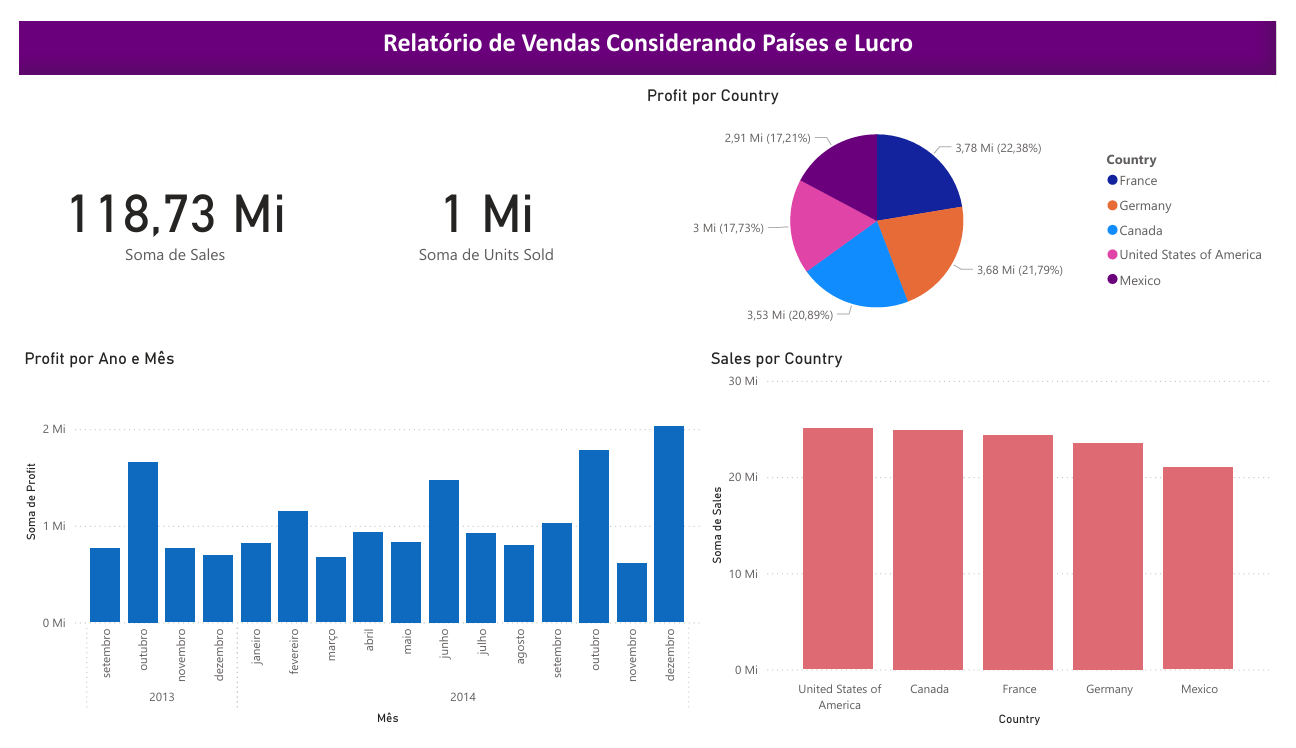

What the dashboard file says about the page in this screenshot:
{"tool":"powerbi","page":{"name":"Página 2","canvas":[1280,720],"ordinal":1},"visuals":[{"type":"card","fields":{"Values":["Sum(financials.Sales)"]},"box":[0,64.8,316.9,267.3],"z":0},{"type":"pieChart","title":"Profit por Country","fields":{"Category":["financials.Country"],"Y":["Sum(financials.Profit)"]},"box":[633.8,64.8,646.2,257.7],"z":1000},{"type":"clusteredColumnChart","title":"Profit por Ano e Mês","fields":{"Y":["Sum(financials.Profit)"],"Category":["financials.Date.Variation.Hierarquia de datas.Ano","financials.Date.Variation.Hierarquia de datas.Mês"]},"box":[0,332.6,698.4,387.4],"z":2000},{"type":"clusteredColumnChart","title":" Sales por Country","fields":{"Y":["Sum(financials.Sales)"],"Category":["financials.Country"]},"box":[698.6,333.4,581.4,387.2],"z":3000},{"type":"textbox","box":[0,0,1280,53.7],"z":4000},{"type":"card","fields":{"Values":["Sum(financials.Units Sold)"]},"box":[316.9,64.8,316.9,267.3],"z":5000}]}

Visuals, with their boxes in screenshot pixels (x1, y1, x2, y2), scaled from the page's 1280x720 canvas onto the 1296x748 screenshot:
card - Sum(financials.Sales): [0,67,321,345]
"Profit por Country" pieChart: [642,67,1295,335]
"Profit por Ano e Mês" clusteredColumnChart: [0,346,707,747]
" Sales por Country" clusteredColumnChart: [707,346,1295,747]
textbox: [0,0,1295,56]
card - Sum(financials.Units Sold): [321,67,642,345]
